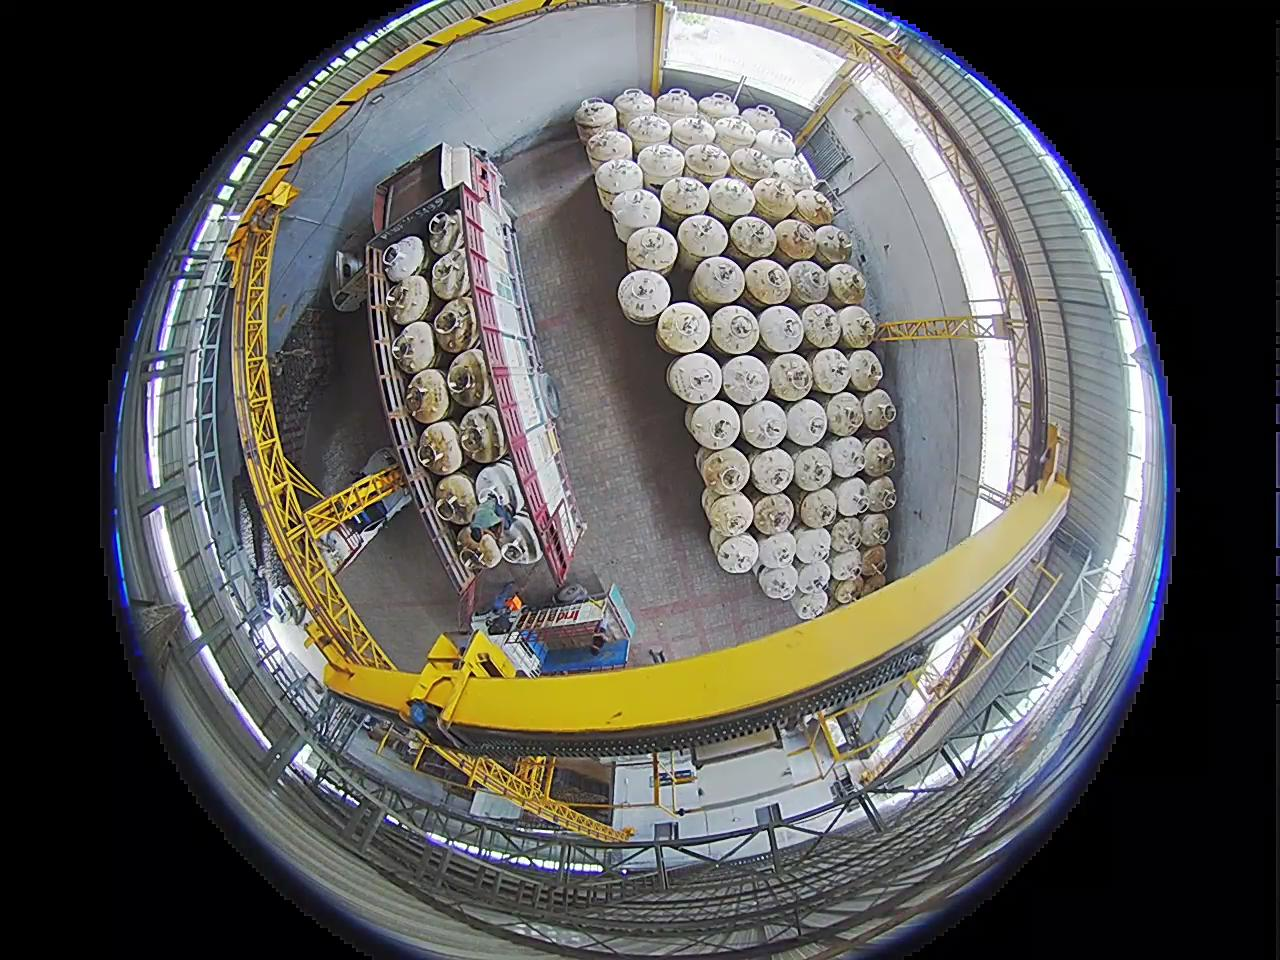cylinder: (308, 456, 414, 579), (298, 225, 397, 309), (614, 267, 689, 344), (622, 223, 694, 280), (667, 352, 722, 404), (690, 256, 745, 308), (687, 398, 741, 450), (710, 305, 762, 355), (720, 354, 770, 405), (415, 419, 464, 473), (404, 368, 452, 423), (740, 399, 790, 450), (432, 296, 478, 351), (677, 213, 728, 261), (700, 447, 751, 495), (391, 321, 436, 374), (612, 190, 660, 239), (744, 258, 794, 306), (758, 305, 806, 353), (432, 473, 479, 522), (749, 446, 796, 493), (707, 175, 756, 221), (637, 142, 686, 188), (659, 175, 710, 220), (430, 246, 472, 299), (596, 156, 644, 202), (767, 353, 813, 399), (706, 493, 754, 537), (729, 215, 777, 258), (785, 398, 829, 445), (585, 127, 631, 171), (682, 142, 731, 184), (786, 260, 830, 305), (790, 446, 834, 491), (669, 115, 718, 155), (810, 348, 853, 393), (751, 176, 796, 219), (573, 97, 617, 140), (799, 304, 842, 348), (751, 493, 795, 535), (836, 305, 877, 350), (774, 219, 819, 260), (825, 262, 868, 306), (655, 87, 699, 128), (824, 391, 865, 437), (716, 533, 760, 574), (798, 487, 840, 529), (827, 435, 868, 478), (713, 115, 757, 153), (730, 145, 775, 183), (814, 226, 855, 267), (792, 526, 833, 568), (612, 89, 653, 129), (756, 530, 798, 570), (848, 349, 885, 392), (769, 157, 812, 195), (428, 211, 465, 255), (831, 476, 871, 516), (753, 128, 797, 163), (794, 188, 835, 226), (861, 388, 898, 430), (757, 564, 798, 600), (696, 92, 738, 127), (862, 436, 897, 476), (362, 447, 402, 480), (740, 104, 780, 136), (795, 559, 830, 595), (865, 475, 898, 513), (829, 516, 863, 554), (792, 588, 828, 621), (828, 549, 863, 582), (860, 512, 892, 548), (684, 402, 710, 439), (831, 576, 863, 605), (709, 528, 738, 560), (860, 545, 888, 577), (858, 570, 886, 596)
truck: (376, 141, 579, 680), (419, 592, 652, 684)
